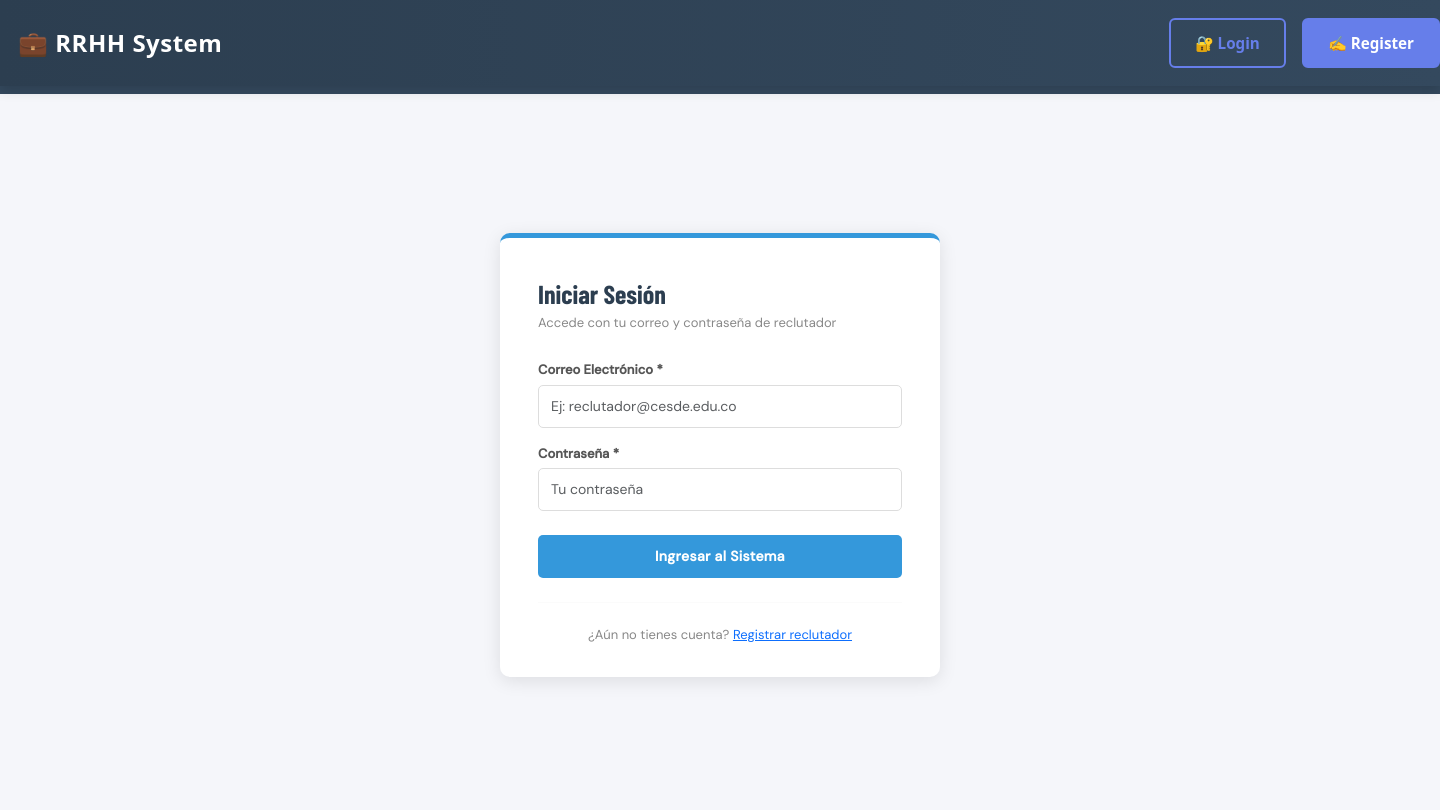
Test: <LoginPage /> › muestra mensaje de bienvenida tras login exitoso
In the field labelled "Correo Electrónico *": coordinates (720, 406) 538,385 -> 902,428, type "juan@test.com"
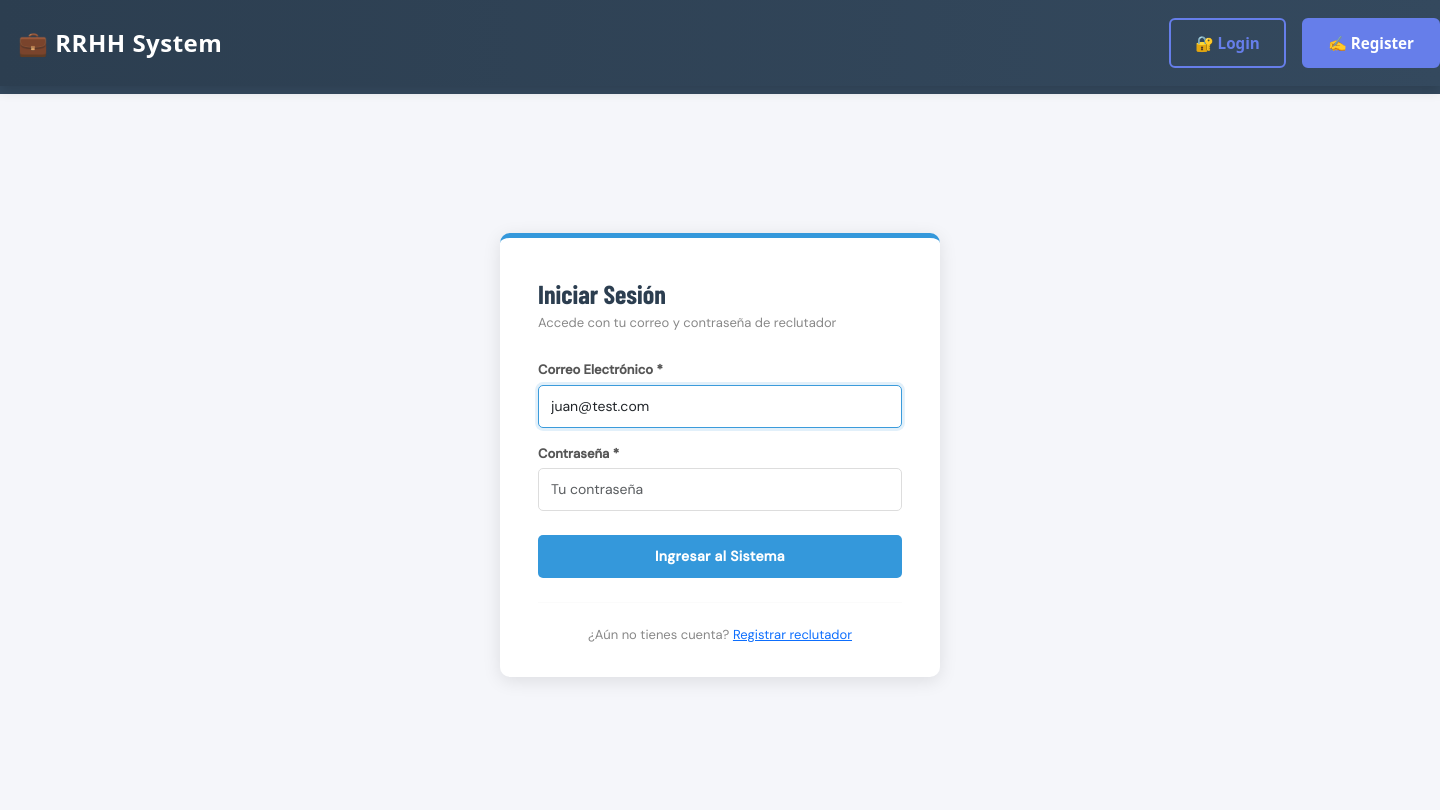
In the password field labelled "Contraseña *": coordinates (720, 490) 538,468 -> 902,511, type "password123"
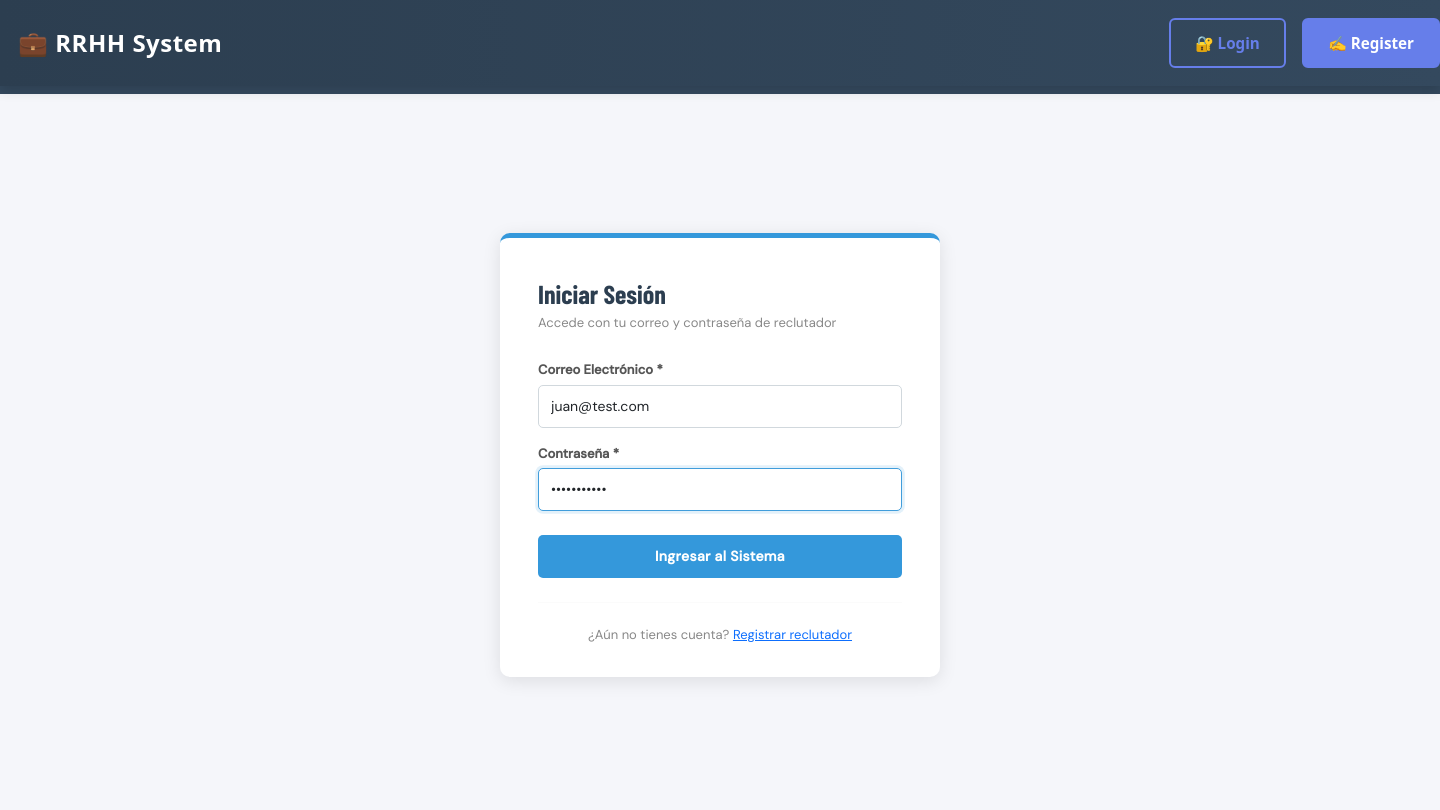
Click the button "Ingresar al Sistema": coordinates (720, 557) 538,535 -> 902,578
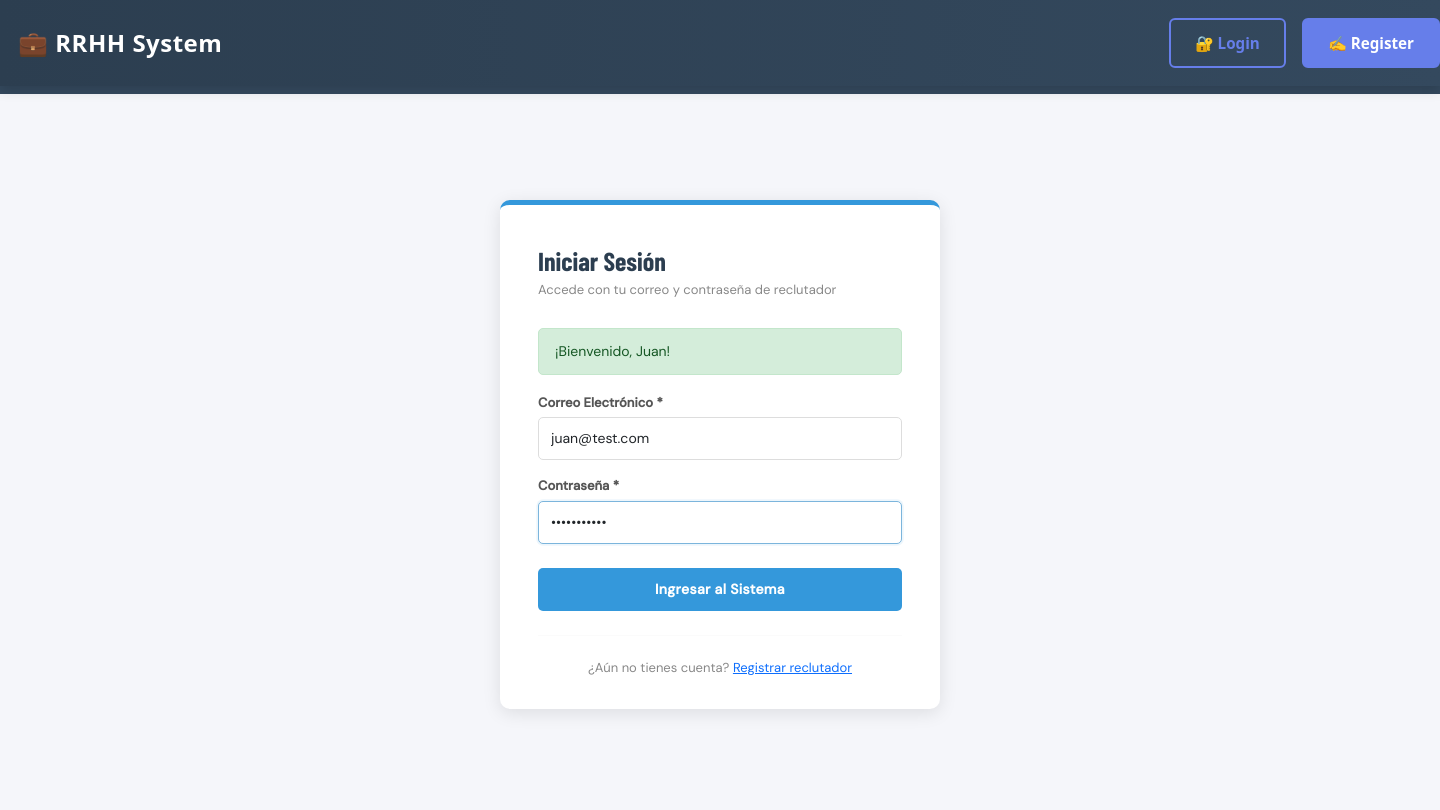
Now the text "¡Bienvenido, Juan!" is shown, box 538,328 -> 902,375
